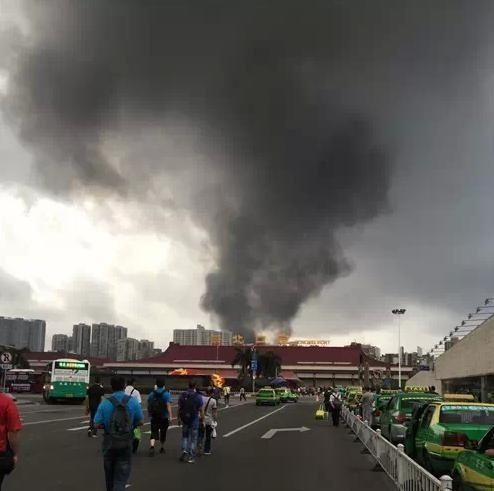fire: (211, 370, 225, 387)
